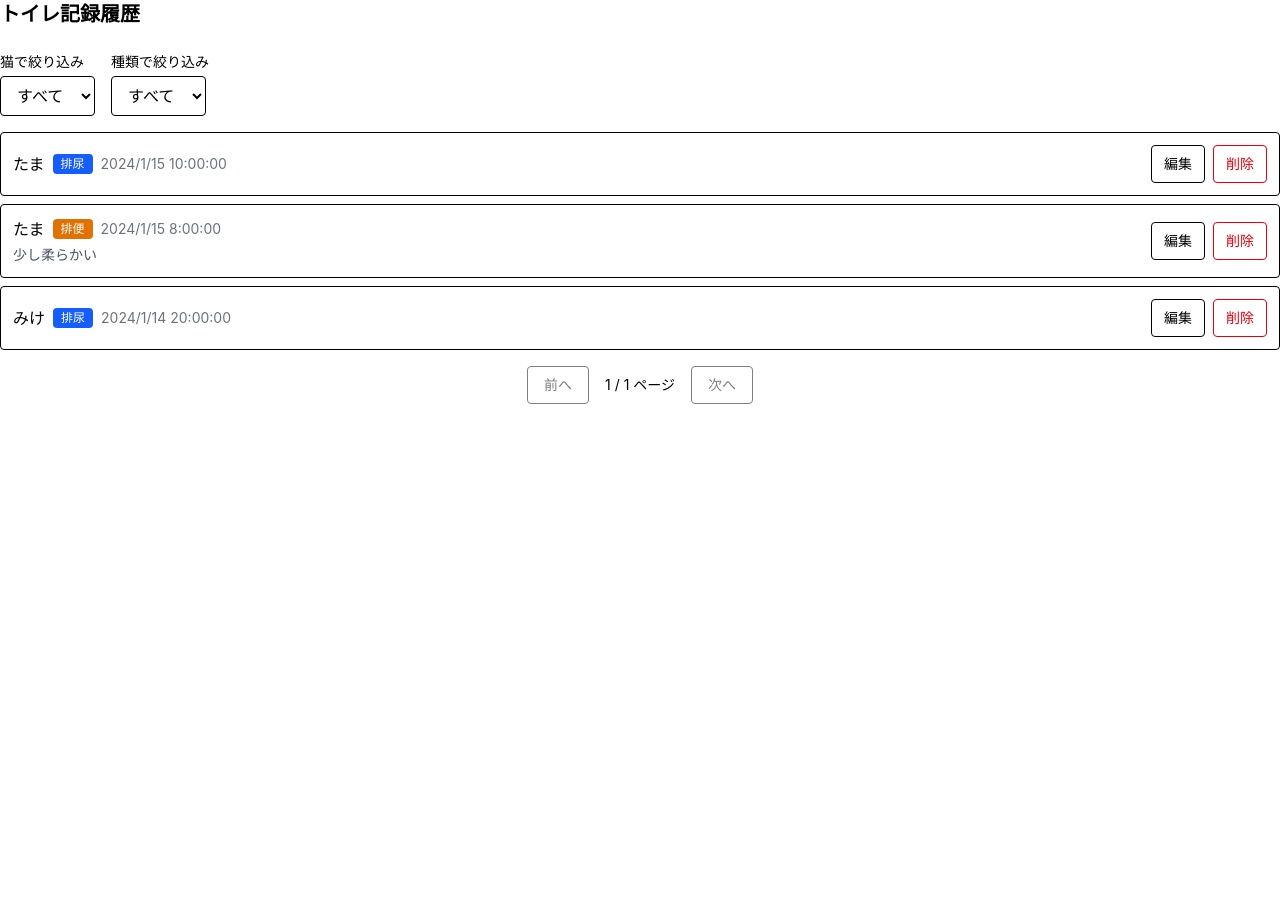
Test: HistoryPage › should open edit form when edit button is clicked
Click the button "編集" in the row of "2024/1/15 10:00:00". click: (1178, 164)
box: [1151,145,1205,183]
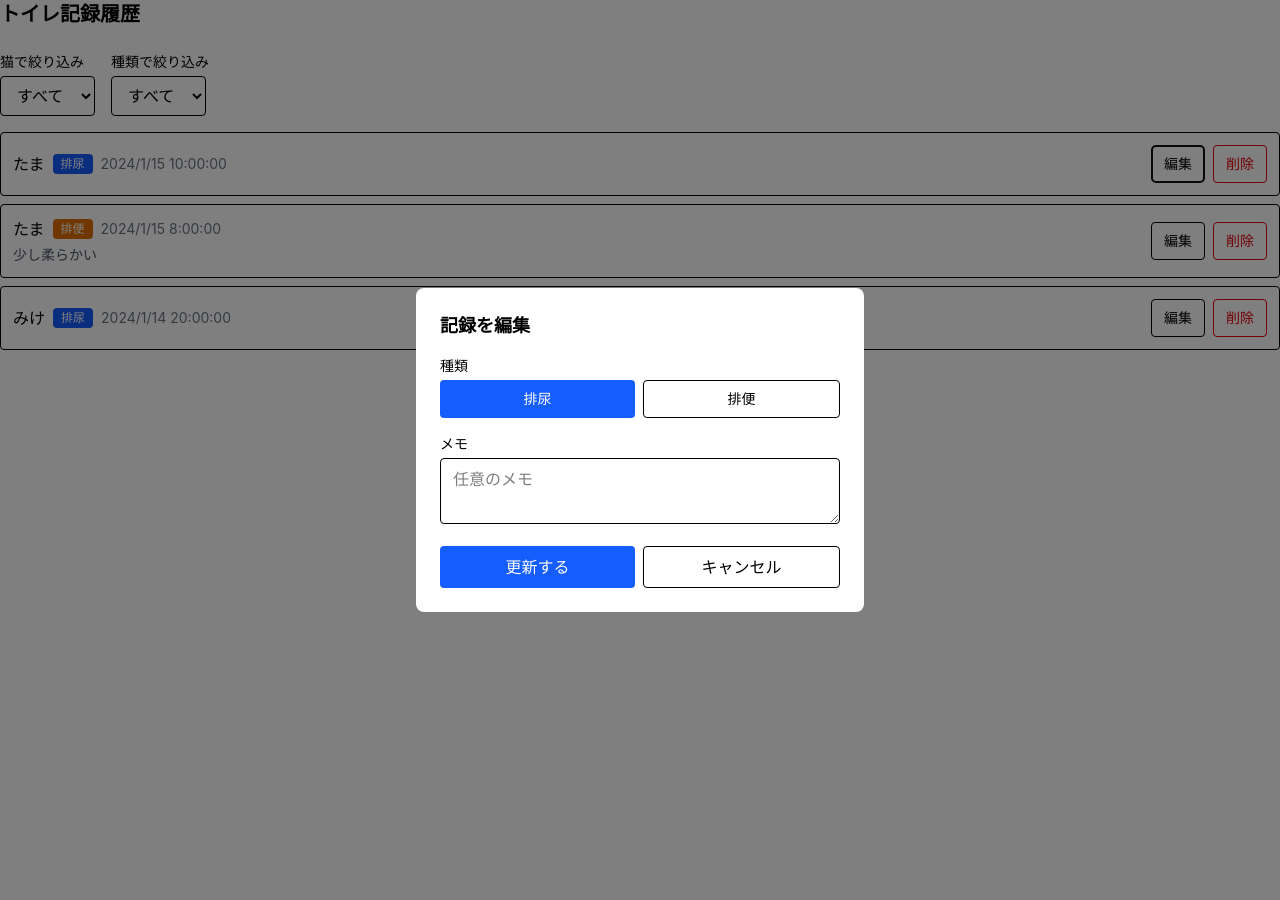
Check: the heading "記録を編集" is shown, box [440,315,530,336]
